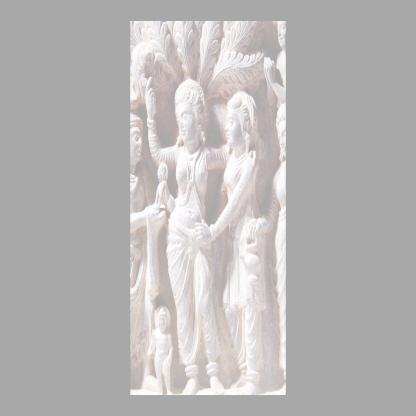buddha-standing: (146, 78, 228, 394)
